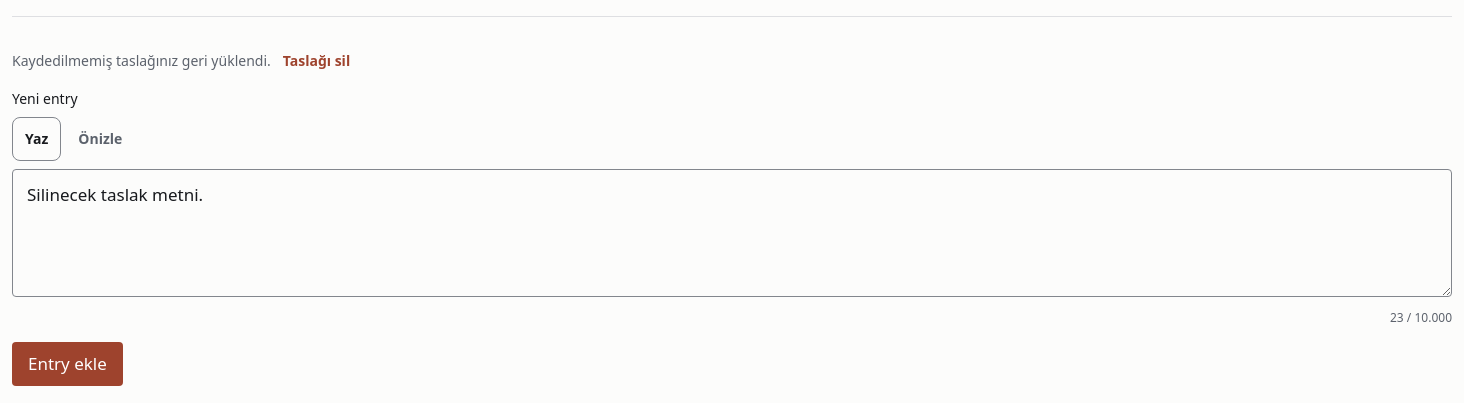
Scenario: composer taslak saklama › “Taslağı sil” hem metni hem kaydı siler ve satırı kaldırır
Click the button "Taslağı sil": (316, 61) 283,49 -> 350,73
Wait 1000 ms
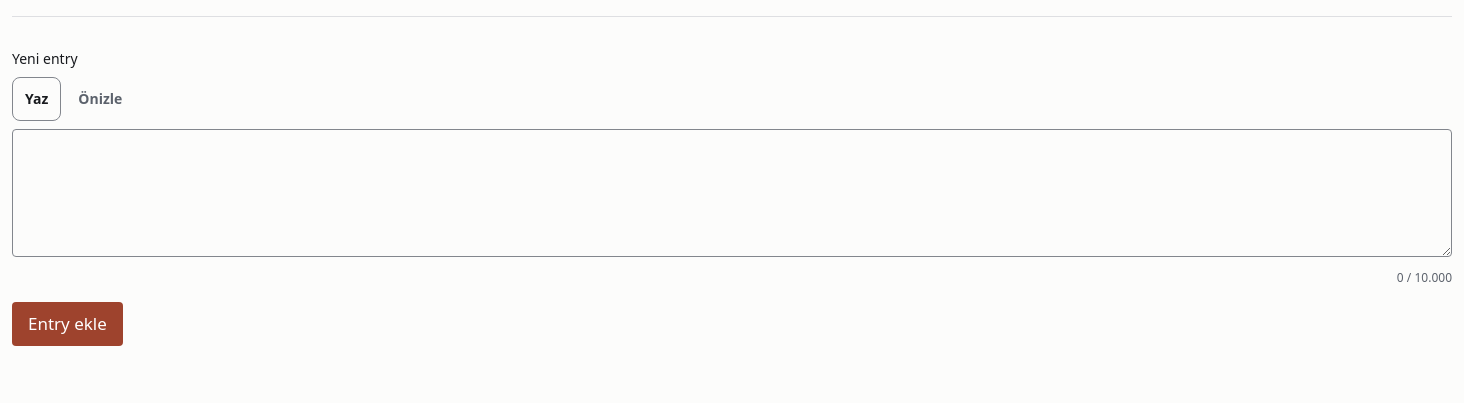
Result: the text box labelled "Yeni entry" is empty at 12,129 -> 1452,257
Result: the text "Kaydedilmemiş taslağınız geri yüklendi." is gone
